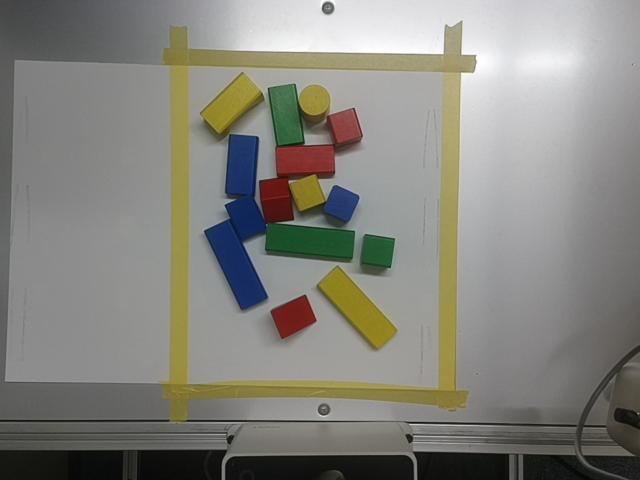blue_cube: (323, 186, 360, 222)
blue_longrect: (205, 219, 265, 310)
blue_rect: (226, 135, 259, 195)
cylinder: (299, 85, 330, 115)
green_cube: (362, 235, 394, 268)
green_longrect: (265, 224, 354, 259)
green_rect: (268, 84, 304, 146)
half_cylinder: (226, 195, 266, 239)
red_cube: (330, 108, 363, 143)
red_rect: (276, 145, 335, 173)
triangle: (271, 295, 317, 337), (260, 177, 294, 223)
yellow_archrect: (201, 72, 265, 138)
yellow_cube: (289, 175, 326, 211)
yellow_longrect: (318, 266, 398, 350)
